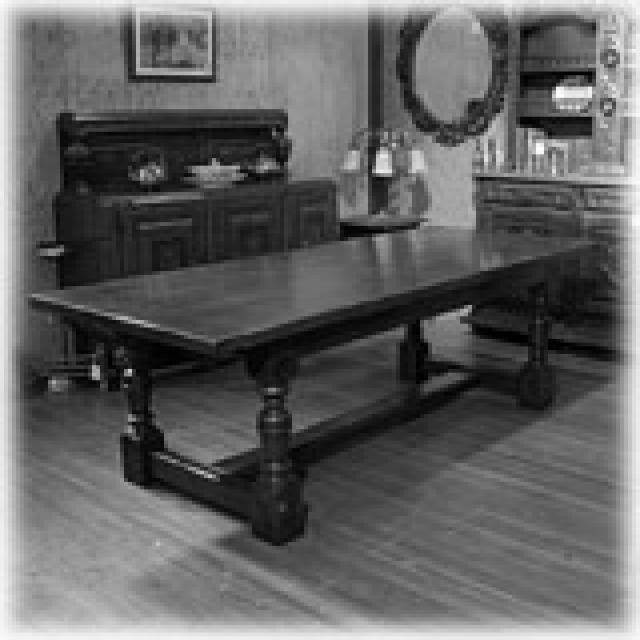table: (29, 228, 603, 550)
